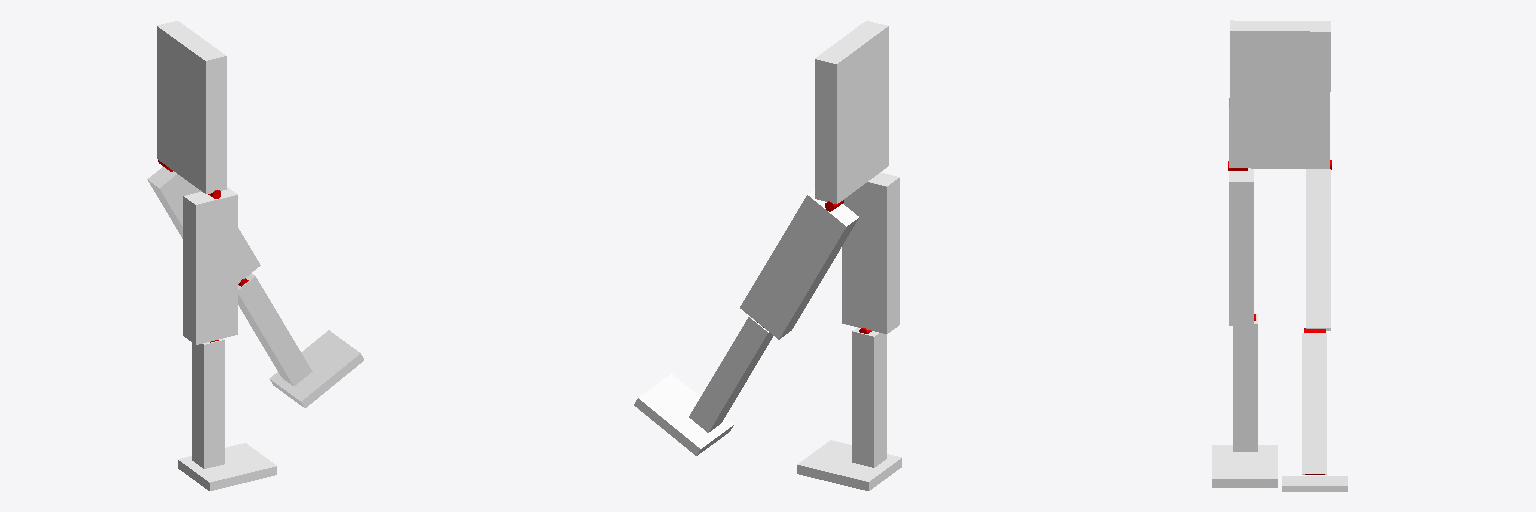
The robot description file, URDF, robot "humanoid":
<?xml version="1.0" ?>
<robot name="humanoid">

	<link name="world">
	<inertial>
      <mass value="0"/>
      <inertia ixx="0.2125" ixy="-0.005" ixz="0.0225" iyy="0.205" iyz="0.045" izz="0.0125"/>
      <origin rpy="0 0 0" xyz="0 0 0"/>
    </inertial>
	</link>

	<link name="y_prismatic">
	 <inertial>
      <mass value="0.01"/>
      <inertia ixx="0.2125" ixy="-0.005" ixz="0.0225" iyy="0.205" iyz="0.045" izz="0.0125"/>
      <origin rpy="0 0 0" xyz="0 0 0"/>
    </inertial>
	</link>
	
	<joint name="y_to_world" type="prismatic">
    <parent link="world"/>
    <child link="y_prismatic"/>
    <axis xyz="0 1 0"/>
    <limit effort="0.0" lower="1" upper="-1" velocity="1000.0"/>
    <origin rpy="0 0 0" xyz="0 0 0"/>
  </joint>
		
	<link name="z_prismatic">
	 <inertial>
      <mass value="0.01"/>
      <inertia ixx="0.2125" ixy="-0.005" ixz="0.0225" iyy="0.205" iyz="0.045" izz="0.0125"/>
      <origin rpy="0 0 0" xyz="0 0 0"/>
    </inertial>
	</link>
	
	<joint name="z_to_y" type="prismatic">
    <parent link="y_prismatic"/>
    <child link="z_prismatic"/>
    <axis xyz="0 0 1"/>
     <limit effort="0.0" lower="1" upper="-1" velocity="1000.0"/>
    <origin rpy="0 0 0" xyz="0 0 0"/>
  </joint>
	
	<joint name="torso_to_z" type="continuous">
    <parent link="z_prismatic"/>
    <child link="body"/>
    <axis xyz="1 0 0"/>
    <origin rpy="0 0 0" xyz="0 0 1.4"/>
  </joint>

    <link name="body">
        <visual>
            <geometry>
                <box size="0.05 0.2 0.3"/>
            </geometry>
            <origin xyz="0.0 0 0.15" rpy="-0.0056 -0.0021 0"/>
            <material name="linkColor">
                <color rgba="1 1 1 1"/>
            </material>
        </visual>
        <inertial>
            <mass value="5.6"/>
            <inertia ixx="190" ixy="-0.237" ixz="2.20" iyy="194" iyz="1.42" izz="30.8"/>
            <origin xyz="0.00135  0.00496 -0.105" rpy="0 0 0"/>
        </inertial>
        <collision>
            <geometry>
                <box size="0.05 0.2 0.3"/>
            </geometry>
            <origin xyz="0.0 0 0.15" rpy="-0.0056 -0.0021 0"/>
        </collision>
    </link>


    <joint name="torsoBody" type="continuous">
        <parent link="body"/>
        <child link="torso"/>
        <!-- <origin xyz="0 0.0 -0.15" rpy="-0.0056 -0.0021 0"/> -->
        <origin xyz="0 0.0 0" rpy="0.0 0.0 0"/>
        <axis xyz="1 0 0"/>
        <limit effort="10" lower="-3" upper="+3" velocity="10"/>
        <dynamics damping="0"/>
    </joint>

    <link name="torso">
        <visual>
            <geometry>
                <cylinder length="0.04" radius="0.01"/>
            </geometry>
            <origin xyz="0 0 0" rpy="0 1.57 1.57"/>
            <axis xyz="0 0 0" />
            <material name="blue">
                <color rgba="0.0 0.0 1.0 1.0"/>
            </material>
        </visual>
        <inertial>
            <mass value="1.0"/>
            <inertia ixx="0" ixy="0" ixz="0.0" iyy="0" iyz="0.0" izz="0"/>
        </inertial>
    </link>





    <!-- ****************************Right leg joints******************************************** -->

    <joint name="jointHipR" type="revolute">
        <parent link="torso"/>
        <child link="hipCylinderR"/>
        <origin xyz="0 0.0 0.0" rpy="0 0 0"/>
        <axis xyz="1 0 0"/>
        <limit effort="90" lower="-0.174533" upper="0" velocity="10"/>
        <dynamics damping="0.01"/>
    </joint>


    <link name="hipCylinderR">
        <visual>
            <geometry>
                <cylinder length="0.04" radius="0.01"/>
            </geometry>
            <origin xyz="0 0 0.02" rpy="0 1.57 0"/>
            <axis xyz="0 0 0" />
            <material name="red">
                <color rgba="1 0.0 0.0 1.0"/>
            </material>
        </visual>
        <inertial>
            <mass value="0"/>
            <inertia ixx="0" ixy="0" ixz="0.0" iyy="0" iyz="0.0" izz="0"/>
        </inertial>
    </link>

    <joint name="jointUpperLegR" type="revolute">
        <parent link="hipCylinderR"/>
        <child link="upperLegCylinderR"/>
        <origin xyz="0 -0.0830 -0.0250" rpy="0 0 0"/>
        <axis xyz="0 1 0"/>
        <limit effort="90" lower="-0.698132" upper="+1.047" velocity="10"/>
        <dynamics damping="0.173402366366"/>
    </joint>

    <link name="upperLegCylinderR">
        <visual>
            <geometry>
                <cylinder length="0.04" radius="0.01"/>
            </geometry>
            <origin xyz="0 0 0.02" rpy="1.57 0 0"/>
            <axis xyz="0 0 0" />
            <material name="red"/>
        </visual>
        <inertial>
            <mass value="0"/>
            <inertia ixx="0" ixy="0" ixz="0.0" iyy="0" iyz="0.0" izz="0"/>
        </inertial>
    </link>

    <joint name="jointLowerLegR" type="revolute">
        <parent link="upperLegCylinderR"/>
        <child link="lowerlegCylinderR"/>
        <origin xyz="0.00110 0.0140 -0.3155" rpy="0 0 0"/>
        <axis xyz="0 1 0"/>
        <limit effort="90" lower="0" upper="1.570796" velocity="10"/>
        <dynamics damping="0.198431592389"/>
    </joint>

    <link name="lowerlegCylinderR">
        <visual>
            <geometry>
                <cylinder length="0.044" radius="0.01"/>
            </geometry>
            <origin xyz="0 0 0" rpy="1.57075 0 0"/>
            <axis xyz="0 0 0" />
            <material name="red"/>
        </visual>
        <inertial>
            <mass value="0"/>
            <inertia ixx="0" ixy="0" ixz="0.0" iyy="0" iyz="0.0" izz="0"/>
        </inertial>
    </link>

    <joint name="jointAnkleR" type="revolute">
        <parent link="lowerlegCylinderR"/>
        <child link="ankleCylinderR"/>
        <origin xyz="0.00300 0 -0.2915" rpy="0 0 0"/>
        <axis xyz="0 1 0"/>
        <limit effort="90" lower="-0.436332" upper="+0.436332" velocity="10"/>
        <dynamics damping="0.0005"/>
    </joint>

    <link name="ankleCylinderR">
        <visual>
            <geometry>
                <cylinder length="0.04" radius="0.01"/>
            </geometry>
            <origin xyz="0 0 0.02" rpy="1.57075 0 0"/>
            <axis xyz="0 0 0" />
            <material name="red"/>
        </visual>
        <inertial>
            <mass value="0"/>
            <inertia ixx="0" ixy="0" ixz="0.0" iyy="0" iyz="0.0" izz="0"/>
        </inertial>
    </link>
<!--
    <joint name="jointfootR" type="revolute">
        <parent link="ankleCylinderR"/>
        <child link="footCylinderR"/>
        <origin xyz="0 0 -0.0115" rpy="0 0 0"/>
        <axis xyz="1 0 0"/>
        <limit effort="10" lower="-3" upper="+3" velocity="10"/>
        <dynamics damping="0"/>
    </joint>

    <link name="footCylinderR">
        <visual>
            <geometry>
                <cylinder length="0.04" radius="0.01"/>
            </geometry>
            <origin xyz="0 0 0.02" rpy="0 1.57 0"/>
            <axis xyz="0 0 0" />
            <material name="red"/>
        </visual>
        <inertial>
            <mass value="0"/>
            <inertia ixx="0" ixy="0" ixz="0.0" iyy="0" iyz="0.0" izz="0"/>
        </inertial>
    </link> -->


    <!--************************************ Left leg joints **********************************************-->


    <joint name="jointHipL" type="revolute">
        <parent link="torso"/>
        <child link="hipCylinderL"/>
        <origin xyz="0 0.0 0.0" rpy="0 0 0"/>
        <axis xyz="1 0 0"/>
        <limit effort="90" lower="0" upper="+0.174533" velocity="10"/>
        <dynamics damping="0.01"/>
    </joint>


    <link name="hipCylinderL">
        <visual>
            <geometry>
                <cylinder length="0.04" radius="0.01"/>
            </geometry>
            <origin xyz="0 0 0.02" rpy="0 1.57 0"/>
            <axis xyz="0 0 0" />
            <material name="red">
                <color rgba="1 0.0 0.0 1.0"/>
            </material>
        </visual>
        <inertial>
            <mass value="0"/>
            <inertia ixx="0" ixy="0" ixz="0.0" iyy="0" iyz="0.0" izz="0"/>
        </inertial>
    </link>

    <joint name="jointUpperLegL" type="revolute">
        <parent link="hipCylinderL"/>
        <child link="upperLegCylinderL"/>
        <origin xyz="0 0.0830 -0.0250" rpy="0 -0.5 0"/>
        <axis xyz="0 1 0"/>
        <limit effort="10" lower="-0.174533" upper="+0.174533" velocity="10"/>
        <dynamics damping="0.173402366366"/>
    </joint>

    <link name="upperLegCylinderL">
        <visual>
            <geometry>
                <cylinder length="0.04" radius="0.01"/>
            </geometry>
            <origin xyz="0 0 0.02" rpy="1.57 0 0"/>
            <axis xyz="0 0 0" />
            <material name="red"/>
        </visual>
        <inertial>
            <mass value="0"/>
            <inertia ixx="0" ixy="0" ixz="0.0" iyy="0" iyz="0.0" izz="0"/>
        </inertial>
    </link>

    <joint name="jointLowerLegL" type="revolute">
        <parent link="upperLegCylinderL"/>
        <child link="lowerlegCylinderL"/>
        <origin xyz="0.00110 -0.0140 -0.3155" rpy="0 0 0"/>
        <axis xyz="0 1 0"/>
        <limit effort="90" lower="0" upper="1.570796" velocity="10"/>
        <dynamics damping="0.198431592389"/>
    </joint>

    <link name="lowerlegCylinderL">
        <visual>
            <geometry>
                <cylinder length="0.044" radius="0.01"/>
            </geometry>
            <origin xyz="0 0 0" rpy="1.57075 0 0"/>
            <axis xyz="0 0 0" />
            <material name="red"/>
        </visual>
        <inertial>
            <mass value="0"/>
            <inertia ixx="0" ixy="0" ixz="0.0" iyy="0" iyz="0.0" izz="0"/>
        </inertial>
    </link>

    <joint name="jointAnkleL" type="revolute">
        <parent link="lowerlegCylinderL"/>
        <child link="ankleCylinderL"/>
        <origin xyz="0.00300 0 -0.2915" rpy="0 0 0"/>
        <axis xyz="0 1 0"/>
        <limit effort="90" lower="-0.436332" upper="+0.436332" velocity="10"/>
        <dynamics damping="0.0005"/>
    </joint>

    <link name="ankleCylinderL">
        <visual>
            <geometry>
                <cylinder length="0.04" radius="0.01"/>
            </geometry>
            <origin xyz="0 0 0.02" rpy="1.57075 0 0"/>
            <axis xyz="0 0 0" />
            <material name="red"/>
        </visual>
        <inertial>
            <mass value="0"/>
            <inertia ixx="0" ixy="0" ixz="0.0" iyy="0" iyz="0.0" izz="0"/>
        </inertial>
    </link>

    <!-- <joint name="jointfootL" type="revolute">
        <parent link="ankleCylinderL"/>
        <child link="footCylinderL"/>
        <origin xyz="0 0 -0.0115" rpy="0 0 0"/>
        <axis xyz="1 0 0"/>
        <limit effort="10" lower="-3" upper="+3" velocity="10"/>
        <dynamics damping="0"/>
    </joint>

    <link name="footCylinderL">
        <visual>
            <geometry>
                <cylinder length="0.04" radius="0.01"/>
            </geometry>
            <origin xyz="0 0 0.02" rpy="0 1.57 0"/>
            <axis xyz="0 0 0" />
            <material name="red"/>
        </visual>
        <inertial>
            <mass value="0"/>
            <inertia ixx="0" ixy="0" ixz="0.0" iyy="0" iyz="0.0" izz="0"/>
        </inertial>
    </link> -->




    <!-- **************************************Decorations Right leg **********************************************-->


    <joint name="fixed_hipBridgeR" type="fixed">
        <parent link="hipCylinderR"/>
        <child link="hipBridgeR"/>
    </joint>

    <link name="hipBridgeR">
        <visual>
            <geometry>
                <box size="0.02 0.0830 0.0250"/>
            </geometry>
            <origin xyz="0 -0.0415 0.0125" rpy="0 0 0"/>
            <material name="linkColor">
                <color rgba="1 1 1 1"/>
            </material>
        </visual>
        <inertial>
            <mass value="0.219"/>
            <inertia ixx="414" ixy="0.149" ixz="0.00188" iyy="0.128" iyz="-0.0311" izz="0.359"/>
            <origin rpy="0 0 0" xyz="0.00131 -0.0515 -0.00661"/>
        </inertial>
        <collision>
            <geometry>
                <box size="0.02 0.0830 0.0250"/>
            </geometry>
            <origin xyz="0 -0.0415 0.0125" rpy="0 0 0"/>
            <!-- <contact_coefficient mu="0.0"  resitution="0"  k_p="4000"  k_d="0.01" /> -->
        </collision>
    </link>

    <joint name="fixed_upperLegBridgeR" type="fixed">
        <parent link="upperLegCylinderR"/>
        <child link="upperLegBridgeR"/>
    </joint>

    <link name="upperLegBridgeR">
        <visual>
            <geometry>
                <box size="0.1 0.05 0.3155"/>
            </geometry>
            <origin xyz="0.0005 0.007 -0.15" rpy="0 0 0"/>
            <material name="linkColor">
                <color rgba="1 1 1 1"/>
            </material>
        </visual>
        <inertial>
            <mass value="1.94"/>
            <inertia ixx="10.4" ixy="-0.00195" ixz="0.0231" iyy="9.33" iyz="-0.127" izz="1.61"/>
            <origin xyz="-0.00154  -0.00421 -0.111" rpy="0 0 0"/>
        </inertial>
        <collision>
            <geometry>
                <box size="0.1 0.05 0.3155"/>
            </geometry>
            <origin xyz="0.0005 0.007 -0.15" rpy="0 0 0"/>
            <!-- <contact_coefficient mu="0.0578491069103"  resitution="0"  k_p="4000"  k_d="0.173402366366" /> -->
        </collision>
    </link>

    <joint name="fixed_lowerLegBridgeR" type="fixed">
        <parent link="lowerlegCylinderR"/>
        <child link="lowerLegBridgeR"/>
    </joint>

    <link name="lowerLegBridgeR">
        <visual>
            <geometry>
                <box size="0.05 0.05 0.28"/>
            </geometry>
            <origin xyz="-0.0015 0 -0.14" rpy="0 0 0"/>
            <material name="linkColor">
                <color rgba="1 1 1 1"/>
            </material>
        </visual>
        <inertial>
            <mass value="0.267"/>
            <inertia ixx="2.52" ixy="-0.000411" ixz="-0.0238" iyy="2.45" iyz="0.0366" izz="0.110"/>
            <origin xyz="0.00135  0.00496 -0.105" rpy="0 0 0"/>
        </inertial>
        <collision>
            <geometry>
                <box size="0.05 0.05 0.28"/>
            </geometry>
            <origin xyz="0.0015 0 -0.14" rpy="0 0 0"/>
            <!-- <contact_coefficient mu="0.0960723602789"  resitution="0"  k_p="4000"  k_d="0.198431592389" /> -->
        </collision>
    </link>


    <joint name="fixed_ankleBridgeR" type="fixed">
        <parent link="ankleCylinderR"/>
        <child link="ankleBridgeR"/>
    </joint>

    <link name="ankleBridgeR">
        <visual>
            <geometry>
                <box size="0.16 0.13 0.02"/>
            </geometry>
            <origin xyz="0.04 0 -0.01" rpy="0 0 0"/>
            <material name="linkColor">
                <color rgba="1 1 1 1"/>
            </material>
        </visual>
        <inertial>
            <mass value="0.2356"/>
            <inertia ixx="0.0952" ixy="0.00066457" ixz="0.0003989" iyy="0.5002" iyz="-0.005328" izz="0.5679"/>
            <origin xyz="0.0230654545  0.0004316655 -0.0061157216" rpy="0 0 0"/>
        </inertial>
        <collision>
            <geometry>
                <box size="0.16 0.13 0.02"/>
            </geometry>
            <origin xyz="0.04 0 -0.01" rpy="0 0 0"/>
            <!-- <contact_coefficient mu="0.15"  resitution="0"  k_p="2.0593"  k_d="0.0005" /> -->
        </collision>
    </link>


    <!--&lt;!&ndash; *********************************Decorations Left leg ******************************************&ndash;&gt;-->
    <joint name="fixed_hipBridgeL" type="fixed">
        <parent link="hipCylinderL"/>
        <child link="hipBridgeL"/>
    </joint>

    <link name="hipBridgeL">
        <visual>
            <geometry>
                <box size="0.02 0.0830 0.0250"/>
            </geometry>
            <origin xyz="0 0.0415 0.0125" rpy="0 0 0"/>
            <material name="linkColor">
                <color rgba="1 1 1 1"/>
            </material>
        </visual>
        <inertial>
            <mass value="0.219"/>
            <inertia ixx="0.414" ixy="0.0149" ixz="0.00188" iyy="0.128" iyz="-0.0311" izz="0.359"/>
            <origin rpy="0 0 0" xyz="0.00131 -0.0515 -0.00661"/>
        </inertial>
        <collision>
            <geometry>
                <box size="0.02 0.0830 0.0250"/>
            </geometry>
            <origin xyz="0 0.0415 0.0125" rpy="0 0 0"/>
            <!-- <contact_coefficient mu="0.0"  resitution="0"  k_p="4000"  k_d="0.01" /> -->
        </collision>
    </link>

    <joint name="fixed_upperLegBridgeL" type="fixed">
        <parent link="upperLegCylinderL"/>
        <child link="upperLegBridgeL"/>
    </joint>

    <link name="upperLegBridgeL">
        <visual>
            <geometry>
                <box size="0.1 0.05 0.3155"/>
            </geometry>
            <origin xyz="0.0005 -0.007 -0.15" rpy="0 0 0"/>
            <material name="linkColor">
                <color rgba="1 1 1 1"/>
            </material>
        </visual>
        <inertial>
            <mass value="1.94"/>
            <inertia ixx="10.4" ixy="-0.00195" ixz="0.0231" iyy="9.33" iyz="-0.127" izz="1.61"/>
            <origin xyz="-0.00154  -0.00421 -0.111" rpy="0 0 0"/>
        </inertial>
        <collision>
            <geometry>
                <box size="0.1 0.05 0.3155"/>
            </geometry>
            <origin xyz="0.0005 -0.007 -0.15" rpy="0 0 0"/>
            <!-- <contact_coefficient mu="0.0578491069103"  resitution="0"  k_p="4000"  k_d="0.173402366366" /> -->
        </collision>
    </link>

    <joint name="fixed_lowerLegBridgeL" type="fixed">
        <parent link="lowerlegCylinderL"/>
        <child link="lowerLegBridgeL"/>
    </joint>

    <link name="lowerLegBridgeL">
        <visual>
            <geometry>
                <box size="0.05 0.05 0.28"/>
            </geometry>
            <origin xyz="0.0015 0 -0.14" rpy="0 0 0"/>
            <material name="linkColor">
                <color rgba="1 1 1 1"/>
            </material>
        </visual>
        <inertial>
            <mass value="0.267"/>
            <inertia ixx="2.52" ixy="-0.000411" ixz="-0.0238" iyy="2.45" iyz="0.0366" izz="0.110"/>
            <origin xyz="0.00135  0.00496 -0.105" rpy="0 0 0"/>
        </inertial>
        <collision>
            <geometry>
                <box size="0.05 0.05 0.28"/>
            </geometry>
            <origin xyz="0.0015 0 -0.14" rpy="0 0 0"/>
            <!-- <contact_coefficient mu="0.0960723602789"  resitution="0"  k_p="4000"  k_d="0.198431592389" /> -->
        </collision>
    </link>


    <joint name="fixed_ankleBridgeL" type="fixed">
        <parent link="ankleCylinderL"/>
        <child link="ankleBridgeL"/>
    </joint>

    <link name="ankleBridgeL">
        <visual>
            <geometry>
                <box size="0.16 0.13 0.02"/>
            </geometry>
            <origin xyz="0.04 0 -0.01" rpy="0 0 0"/>
            <material name="linkColor">
                <color rgba="1 1 1 1"/>
            </material>
        </visual>
        <inertial>
            <mass value="0.2356"/>
            <inertia ixx="0.0952" ixy="0.00066457" ixz="0.0003989" iyy="0.5002" iyz="-0.005328" izz="0.5679"/>
            <origin xyz="0.0230654545  0.0004316655 -0.0061157216" rpy="0 0 0"/>
        </inertial>
        <collision>
            <geometry>
                <box size="0.16 0.13 0.02"/>
            </geometry>
            <origin xyz="0.04 0 -0.01" rpy="0 0 0"/>
            <!-- <contact_coefficient mu="0.15"  resitution="0"  k_p="2.0593"  k_d="0.0005" /> -->
        </collision>
    </link>
</robot>

--- What the picture shows (computed from the rendered views, not written in the file) ---
The picture shows the robot from 3 angles, left to right: view 1: azimuth 30°, elevation 25°; view 2: azimuth 150°, elevation 25°; view 3: azimuth 270°, elevation 25°; orthographic projection.
Model humanoid with 21 links and 20 joints (8 revolute, 2 continuous, 2 prismatic, 8 fixed), rooted at world, posed all joints at 0.
Visible links, largest first — view 1: body, upperLegBridgeR, lowerLegBridgeR, lowerLegBridgeL, ankleBridgeL, ankleBridgeR, upperLegBridgeL; view 2: body, upperLegBridgeR, upperLegBridgeL, lowerLegBridgeR, lowerLegBridgeL, ankleBridgeL, ankleBridgeR; view 3: body, upperLegBridgeL, upperLegBridgeR, lowerLegBridgeL, lowerLegBridgeR, ankleBridgeR, ankleBridgeL.
Link boxes in pixels (x1,y1,x2,y2): body: (157, 21, 226, 193); upperLegBridgeR: (183, 187, 237, 344); lowerLegBridgeR: (192, 338, 224, 468); lowerLegBridgeL: (238, 273, 312, 385); ankleBridgeL: (269, 330, 363, 407); ankleBridgeR: (178, 443, 276, 490); upperLegBridgeL: (147, 167, 260, 283); body: (815, 21, 888, 203); upperLegBridgeR: (842, 172, 899, 333); upperLegBridgeL: (740, 189, 858, 339); lowerLegBridgeR: (852, 327, 886, 467); lowerLegBridgeL: (689, 316, 772, 432); ankleBridgeL: (634, 373, 733, 455); ankleBridgeR: (797, 440, 901, 490); body: (1229, 20, 1330, 168); upperLegBridgeL: (1306, 169, 1330, 330); upperLegBridgeR: (1229, 168, 1253, 325); lowerLegBridgeL: (1302, 333, 1326, 474); lowerLegBridgeR: (1233, 314, 1257, 451); ankleBridgeR: (1212, 445, 1277, 487); ankleBridgeL: (1282, 476, 1347, 491).
Bounding box of the posed robot: 0.459 × 0.268 × 0.9526 m (x, y, z).
Geometry: primitives only (box / cylinder / sphere), no mesh files.